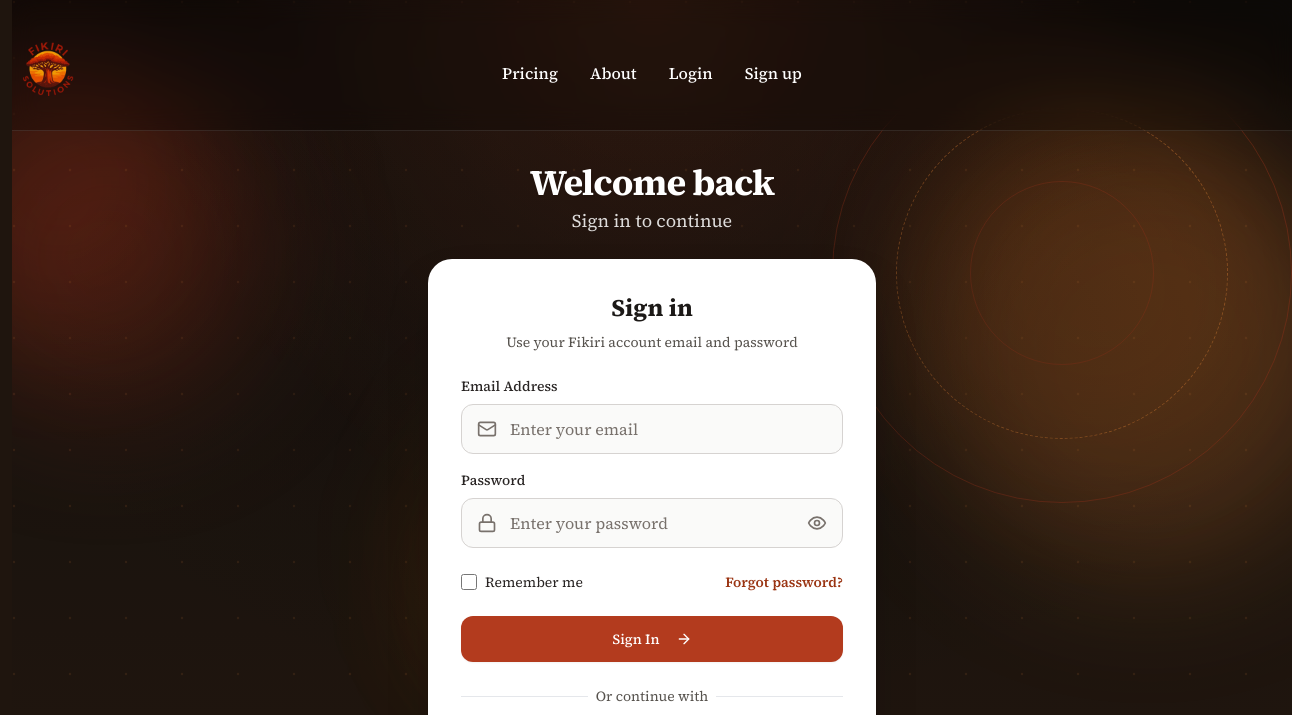
Test: Login Component › should validate password length
Type "12345" into the password field labelled "Password" at (652, 523), box [461,498,843,548]
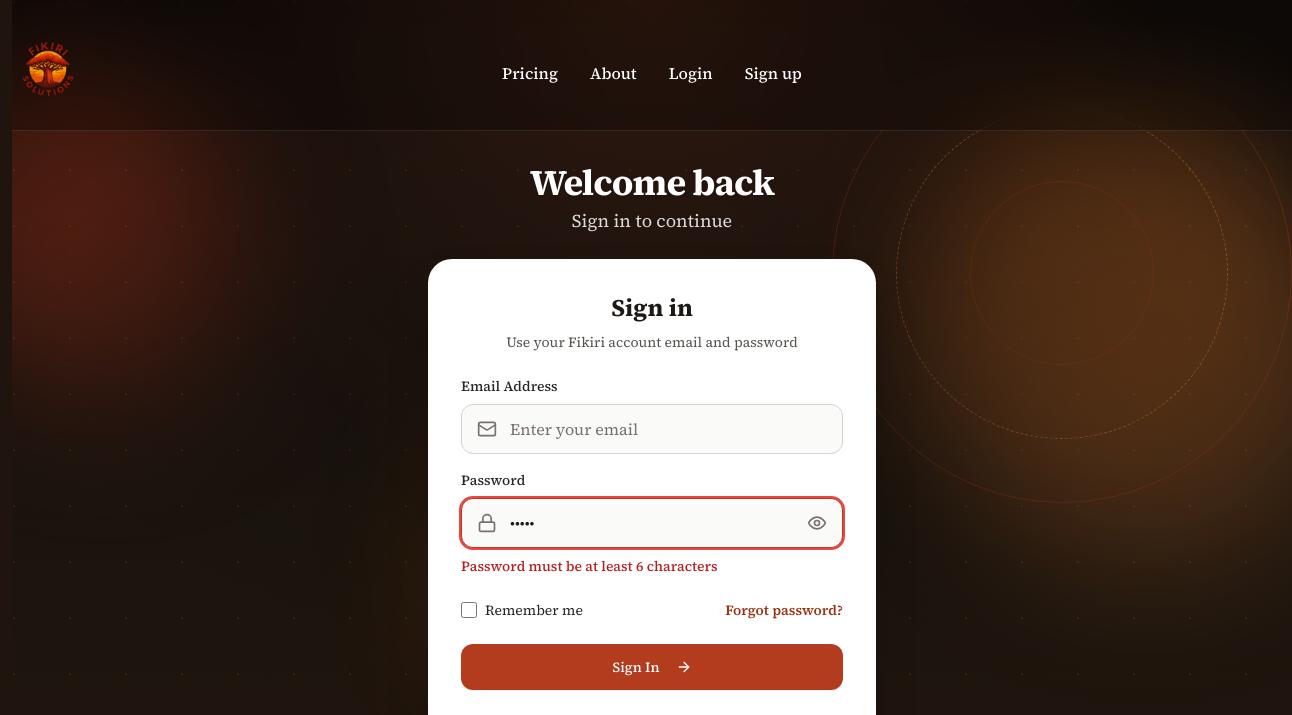
Expected: the text "Password must be at least 6 characters" is shown, [461,556,718,576]
